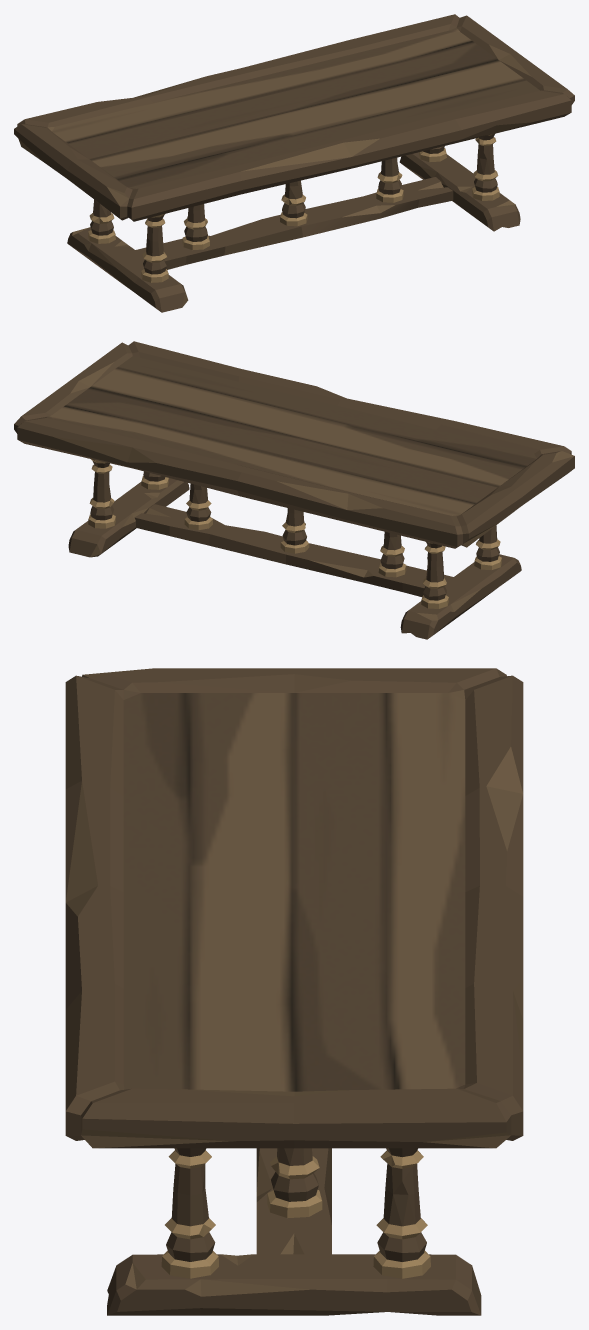
Rendered from SM_Prop_Table_01.fbx.
The picture shows the model from 3 angles, top to bottom: view 1: azimuth 30°, elevation 25°; view 2: azimuth 150°, elevation 25°; view 3: azimuth 270°, elevation 25°; orthographic projection. The views are drawn at different scales.
Visible parts, largest first — view 1: SM_Prop_Table_01; view 2: SM_Prop_Table_01; view 3: SM_Prop_Table_01.
Boxes of the visible parts, bbox=[...] form: SM_Prop_Table_01: bbox=[14, 14, 574, 312]; SM_Prop_Table_01: bbox=[14, 341, 574, 639]; SM_Prop_Table_01: bbox=[65, 668, 523, 1315].
Size of the model in its own units: 339 by 91.17 by 148.
